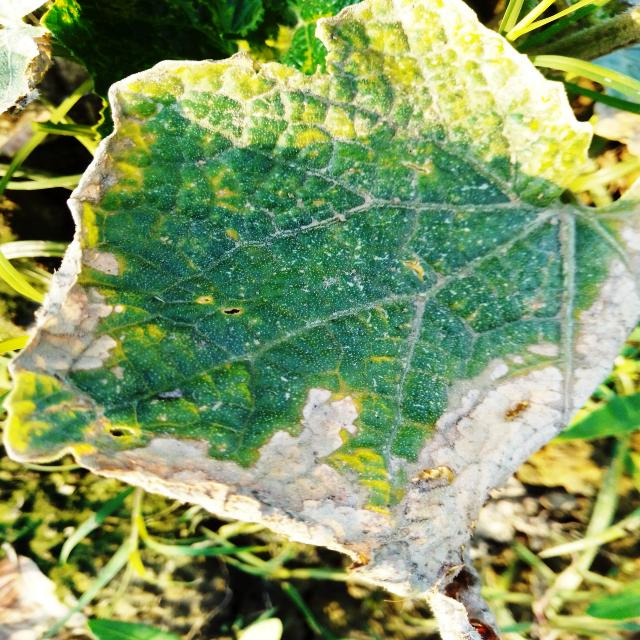Gummy-Stem-Blight: (71, 183, 640, 639), (6, 51, 247, 381)
